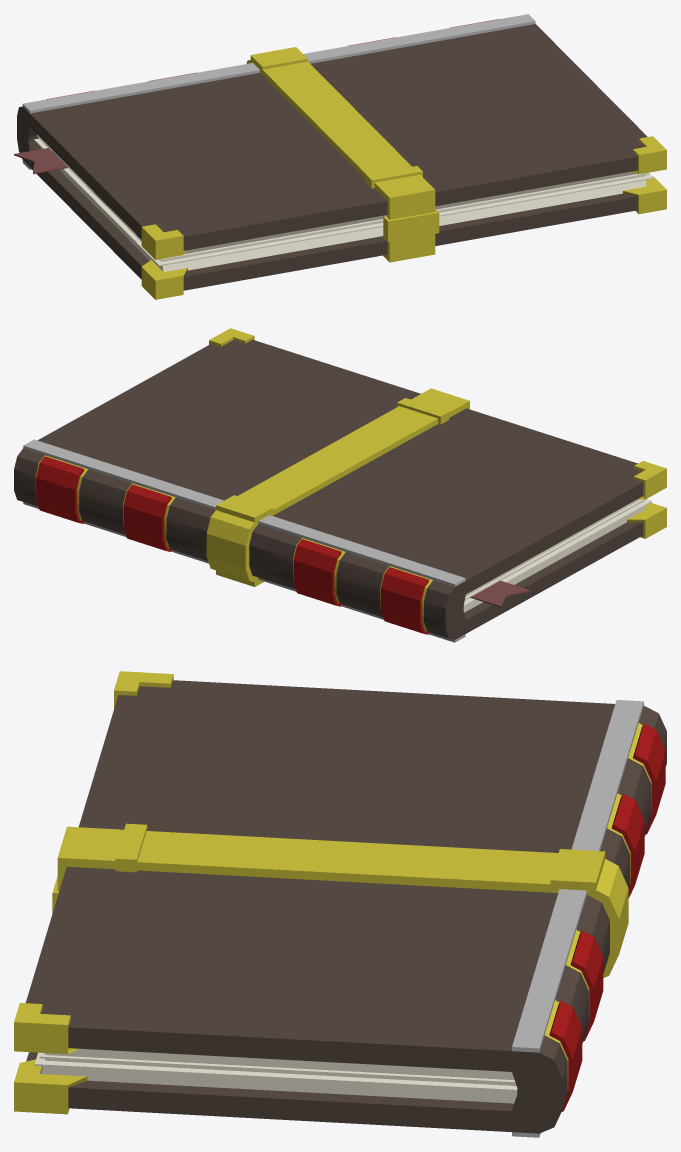
The model's file is book.fbx.
The picture shows the model from 3 angles, top to bottom: view 1: azimuth 30°, elevation 25°; view 2: azimuth 150°, elevation 25°; view 3: azimuth 270°, elevation 25°; orthographic projection. The views are drawn at different scales.
Parts seen in each view (by area): view 1: Book; view 2: Book; view 3: Book.
Part boxes in pixels (bbox=[...]): Book: bbox=[14, 14, 666, 299]; Book: bbox=[14, 328, 666, 642]; Book: bbox=[14, 671, 666, 1137].
Size of the model in its own units: 2.69 by 0.3507 by 1.96.
